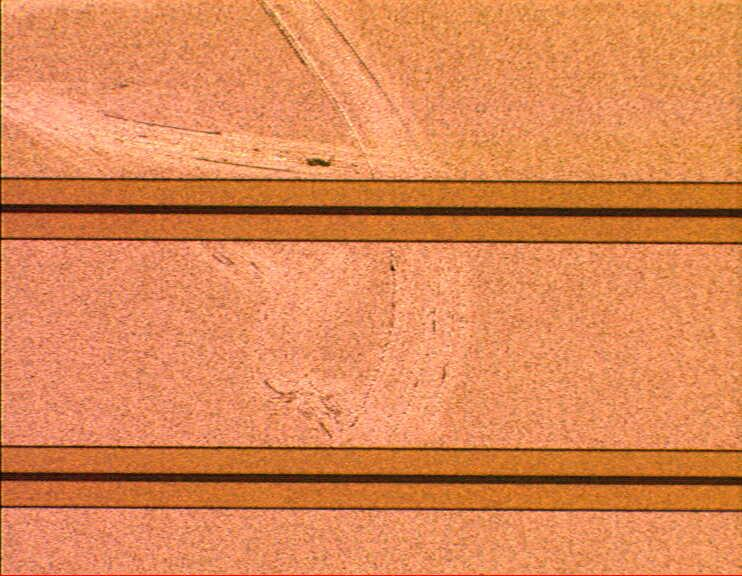SCRATCH: (2, 1, 485, 524)
